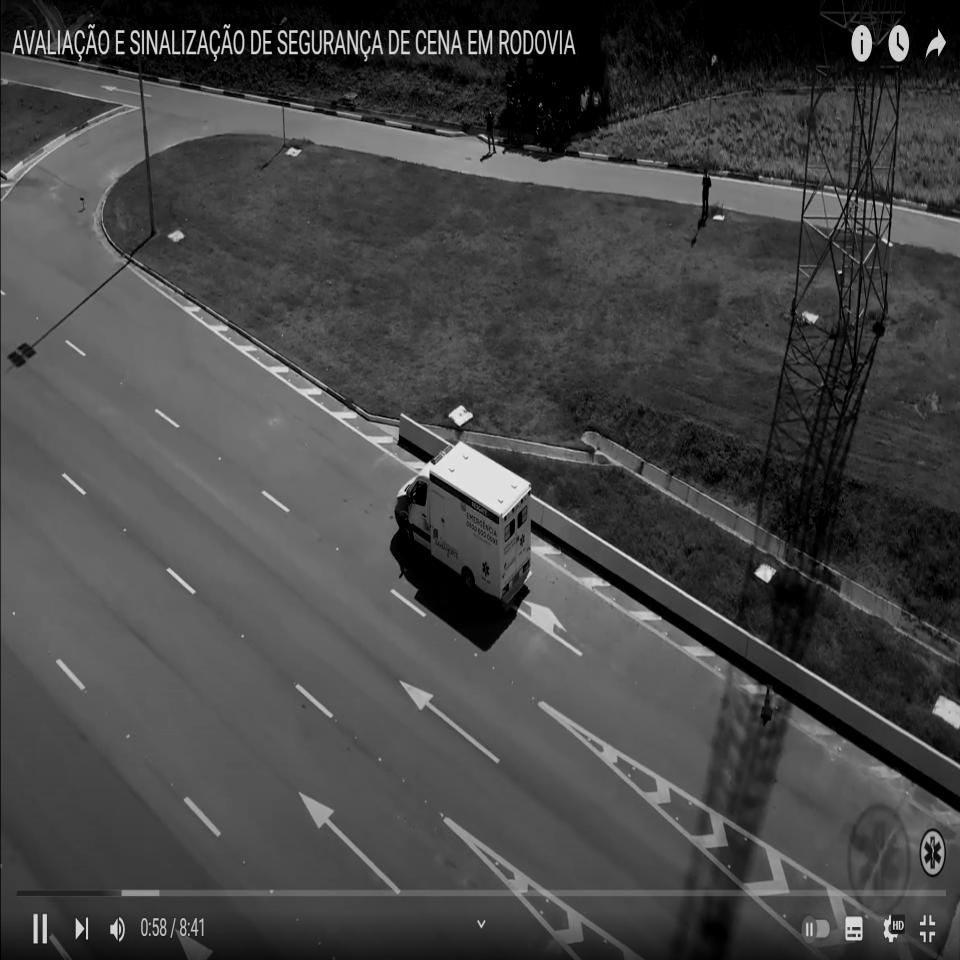ambulancia: (393, 443, 533, 608)
